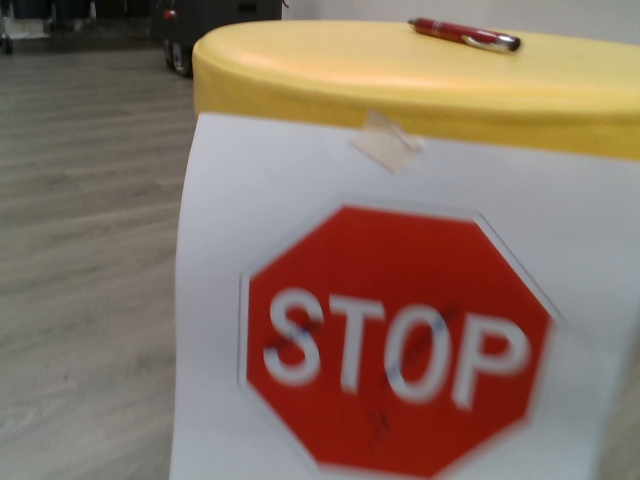stop: (230, 200, 572, 480)
